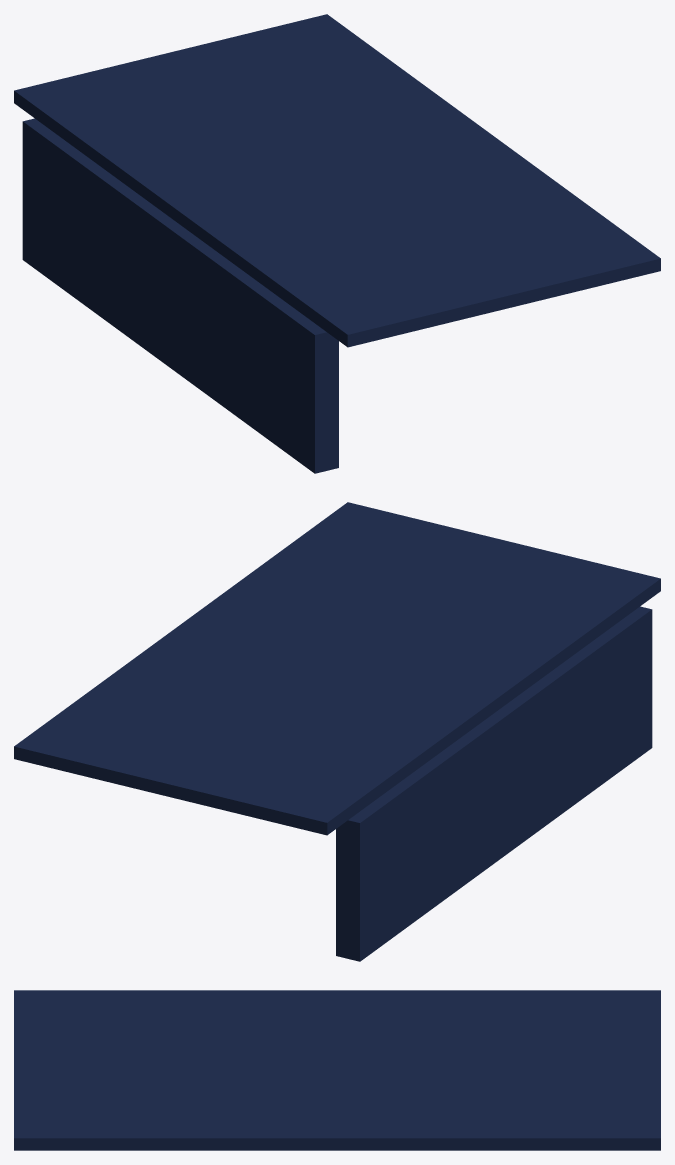
File: police_car_boot_lid.glb
3 renders of one model, top to bottom at view 1: azimuth 30°, elevation 25°; view 2: azimuth 150°, elevation 25°; view 3: azimuth 270°, elevation 25°, orthographic. The views are drawn at different scales.
Visible parts, largest first — view 1: body:compound; view 2: body:compound; view 3: body:compound.
Boxes of the visible parts, bbox=[...] form: body:compound: bbox=[14, 14, 660, 473]; body:compound: bbox=[14, 502, 660, 961]; body:compound: bbox=[14, 990, 660, 1150].
Size of the model in its own units: 0.8438 by 0.375 by 1.5.
